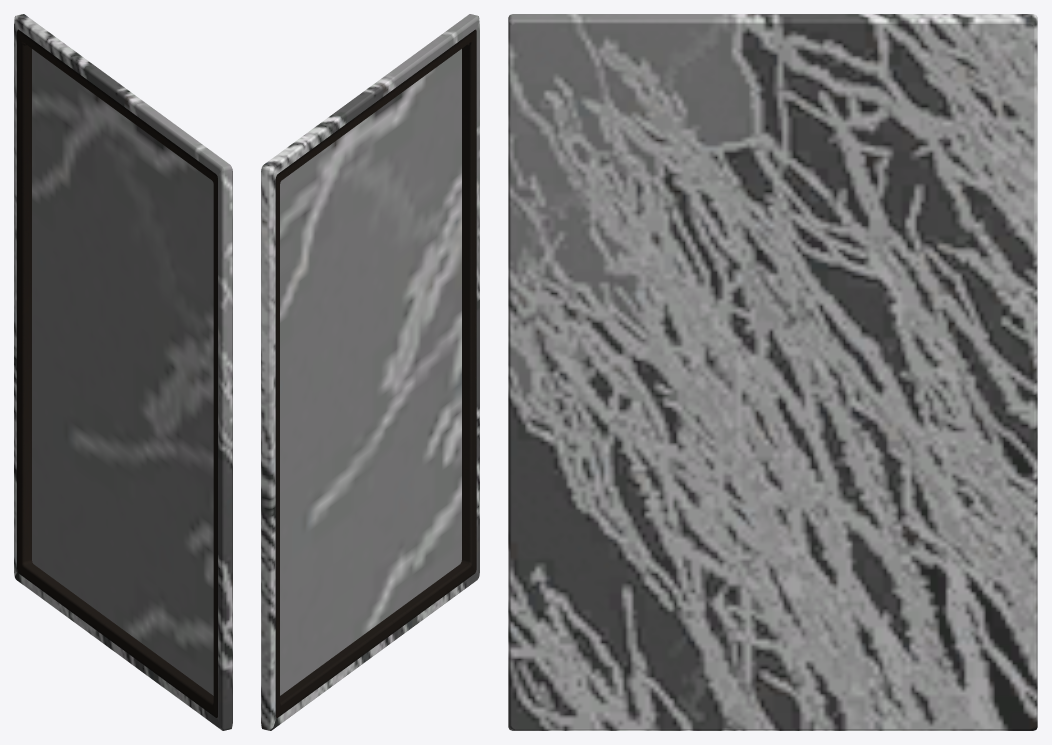
Rendered from p6_high_contrast_art_01_lod0.glb.
The picture shows the model from 3 angles, left to right: view 1: azimuth 30°, elevation 25°; view 2: azimuth 150°, elevation 25°; view 3: azimuth 270°, elevation 25°; orthographic projection. The views are drawn at different scales.
Parts seen in each view (by area): view 1: surf0, surf1; view 2: surf0, surf1; view 3: surf0.
Part boxes in pixels (<box>): surf0: <box>14,14,232,730</box>; surf1: <box>17,29,217,717</box>; surf0: <box>261,14,479,730</box>; surf1: <box>275,29,476,717</box>; surf0: <box>508,14,1037,730</box>.
Size of the model in its own units: 2 by 92 by 62.
